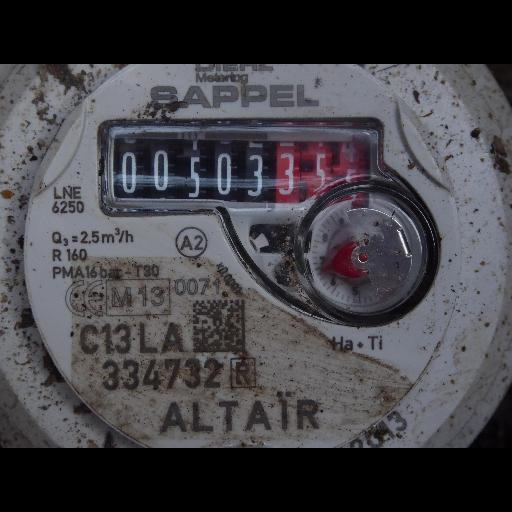0: (213, 139, 238, 201), (149, 137, 173, 200), (119, 137, 142, 199)
3: (275, 141, 302, 204), (243, 140, 269, 203)
4: (338, 135, 366, 186)
5: (306, 141, 332, 201), (183, 138, 206, 200)
border_water_meter_number: (107, 125, 394, 212)
